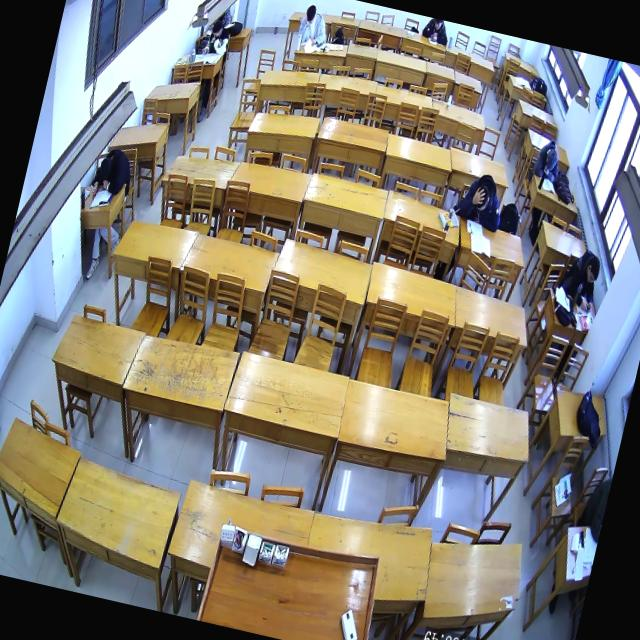bow: (453, 169, 509, 232), (90, 144, 136, 202), (532, 138, 564, 182)
down: (584, 255, 602, 285), (96, 156, 115, 183), (472, 184, 490, 212), (543, 148, 559, 172), (304, 4, 318, 25), (210, 20, 222, 38)
sit: (558, 246, 604, 313), (296, 3, 330, 49), (201, 18, 233, 60)
